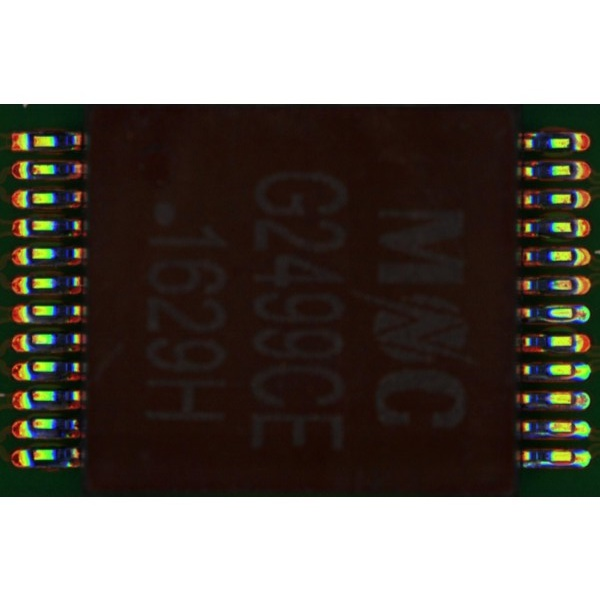Bad_podu: (564, 452, 582, 461), (565, 365, 581, 373), (563, 395, 581, 402), (567, 422, 579, 432), (570, 308, 581, 317)
Bad_qiaojiao: (532, 457, 571, 465), (531, 431, 571, 437), (532, 316, 572, 322)
